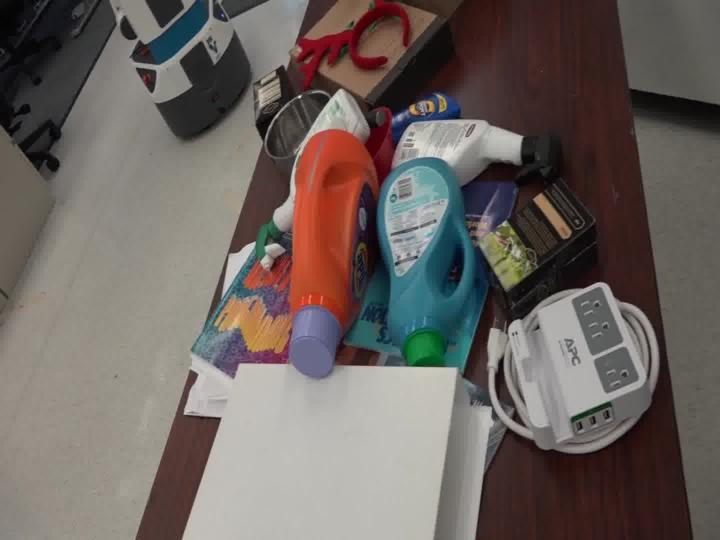downy: (363, 138, 489, 362)
